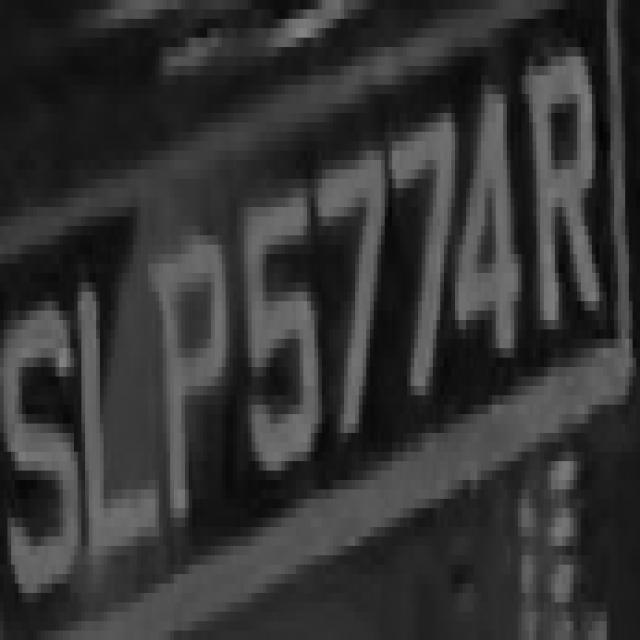4: (448, 57, 522, 404)
5: (230, 141, 314, 499)
7: (370, 94, 462, 471), (311, 132, 392, 452)
L: (81, 273, 163, 583)
P: (152, 226, 229, 565)
R: (514, 38, 610, 404)
S: (4, 273, 81, 602)
